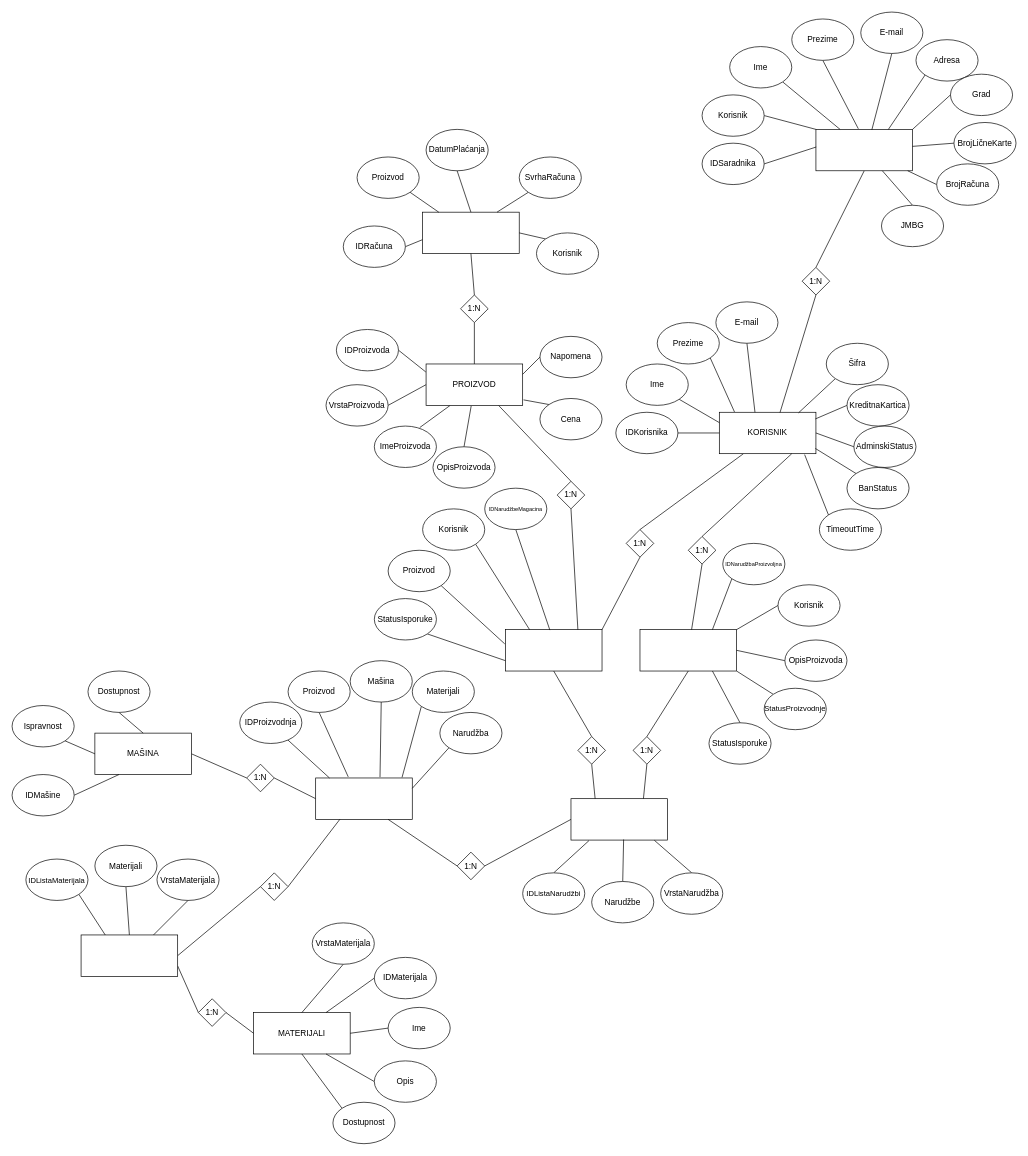
The diagram is 1028 pixels wide and 1156 high, and some of its shapes have lost their labels. Here are the shapes that lost their labels. From the top down, the box of each, then its label:
(815, 129, 913, 171): SARADNIK
(422, 211, 519, 254): RAČUN
(505, 629, 602, 671): NARUDŽBA_MAGACIN
(639, 629, 737, 671): NARUDŽBA_ZAHTEV
(315, 777, 412, 819): PROIZVODNJA
(570, 798, 668, 840): LISTA_NARUDŽBI
(80, 934, 178, 976): LISTA_MATERIJALA
